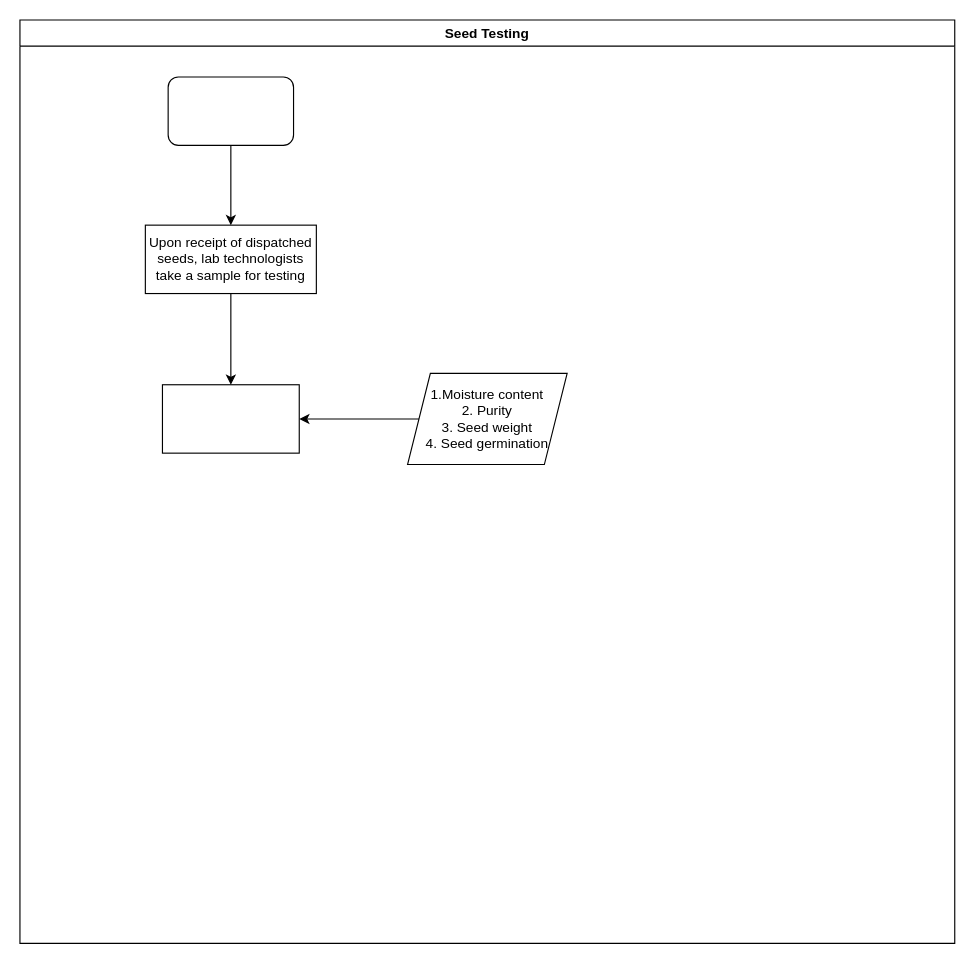
Some shapes in this 975 by 963 pixel diagram are drawn without their labels. The centre of each missing label's shape, as x and y in pixels:
Seed analyst conducts seeds test: (x=230, y=418)
Start: (x=230, y=110)
